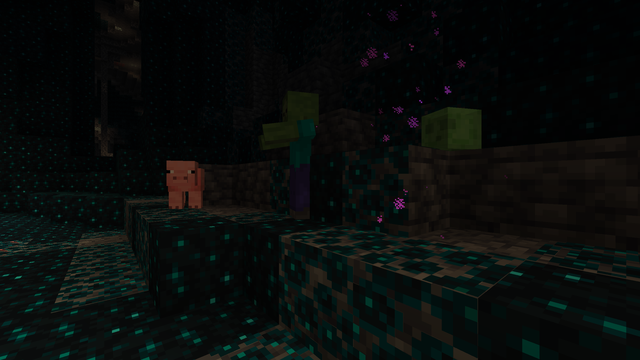cochons: (163, 166, 215, 209)
slimes: (421, 103, 478, 152)
zombies: (274, 91, 324, 220)
